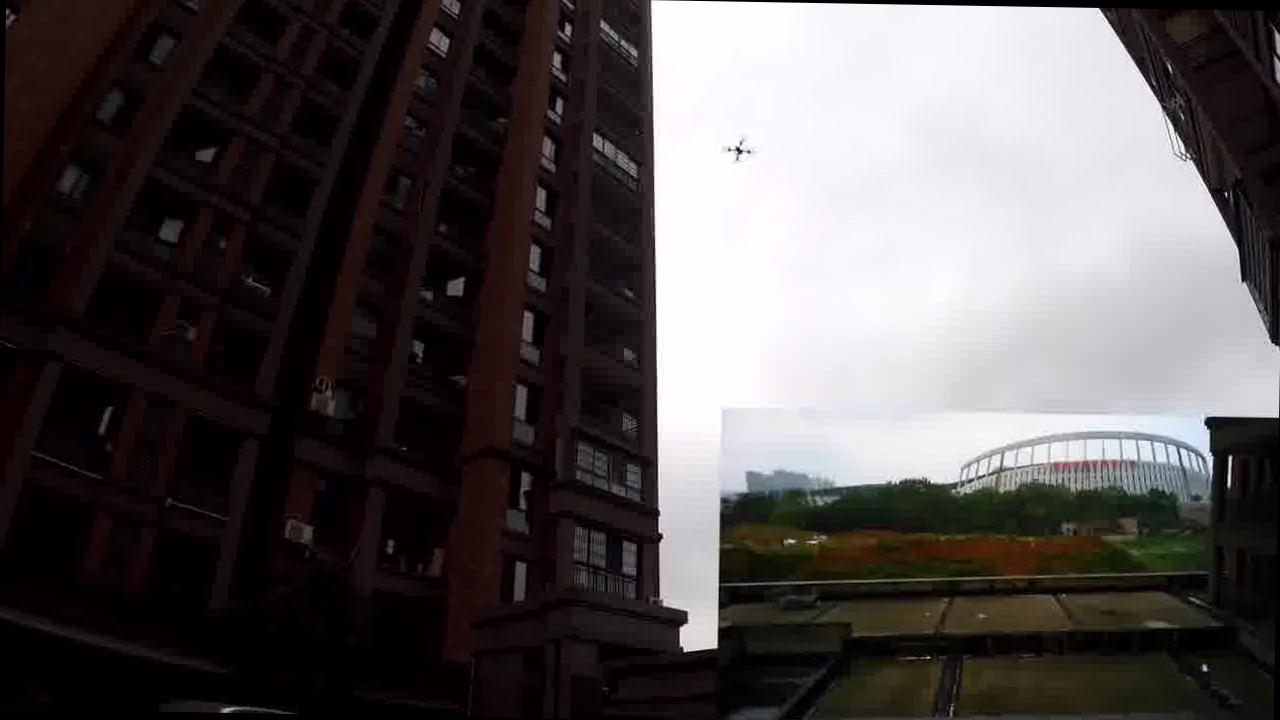drone: (720, 132, 756, 160)
